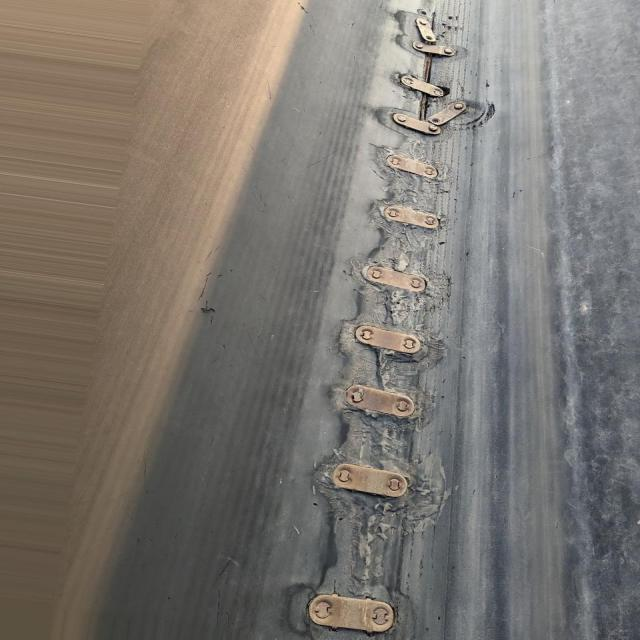patch work: (285, 0, 512, 640)
